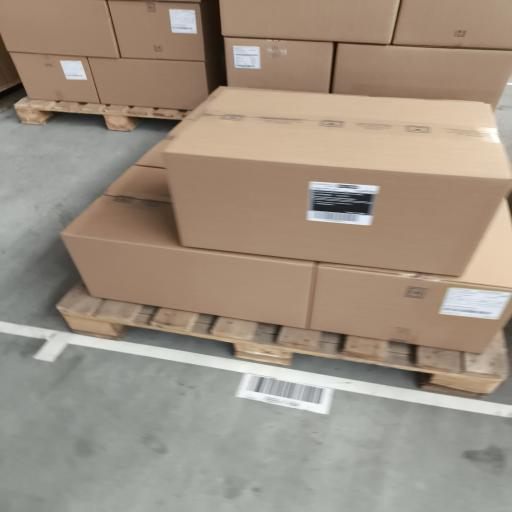pallet: (57, 283, 508, 396), (15, 98, 188, 131), (0, 79, 21, 93)
